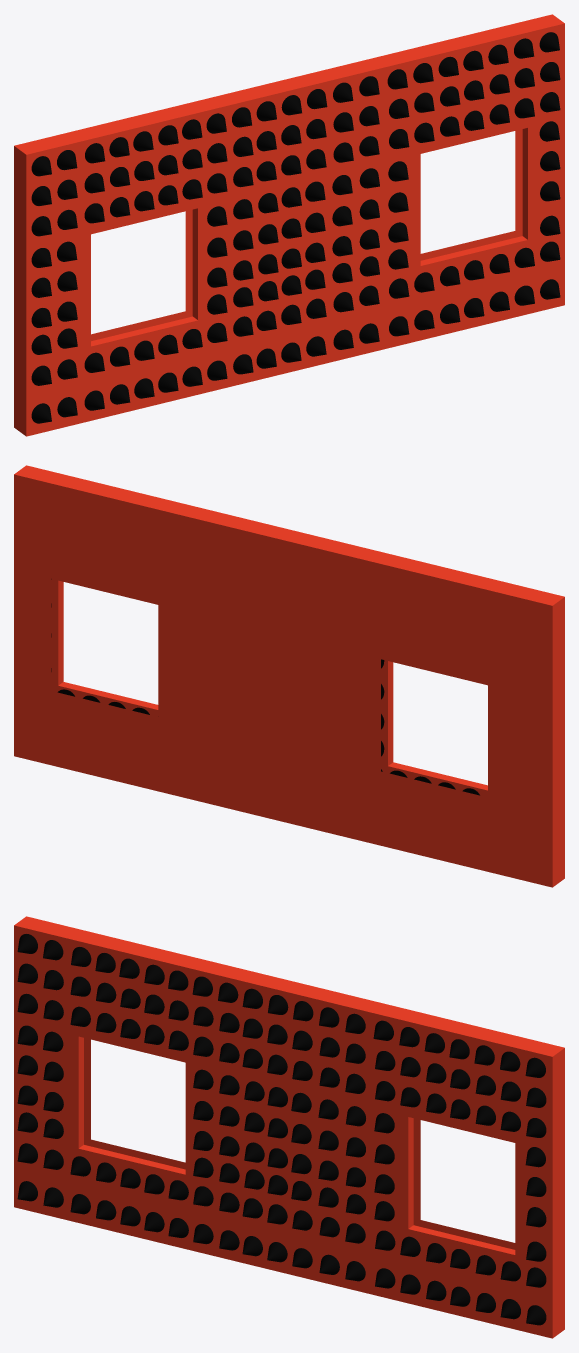
Rendered from ParedObs.fbx.
3 renders of one model, top to bottom at view 1: azimuth 30°, elevation 25°; view 2: azimuth 150°, elevation 25°; view 3: azimuth 330°, elevation 25°, orthographic.
Visible parts, largest first — view 1: Pared; view 2: Pared; view 3: Pared.
Boxes of the visible parts, x1,y1,x2,y2 form: Pared: [14, 14, 564, 436]; Pared: [14, 465, 564, 887]; Pared: [14, 916, 564, 1338].
Bounding box in the file's own units: 2000 × 1000 × 150.
Materials: 1 (1 with a texture image).
